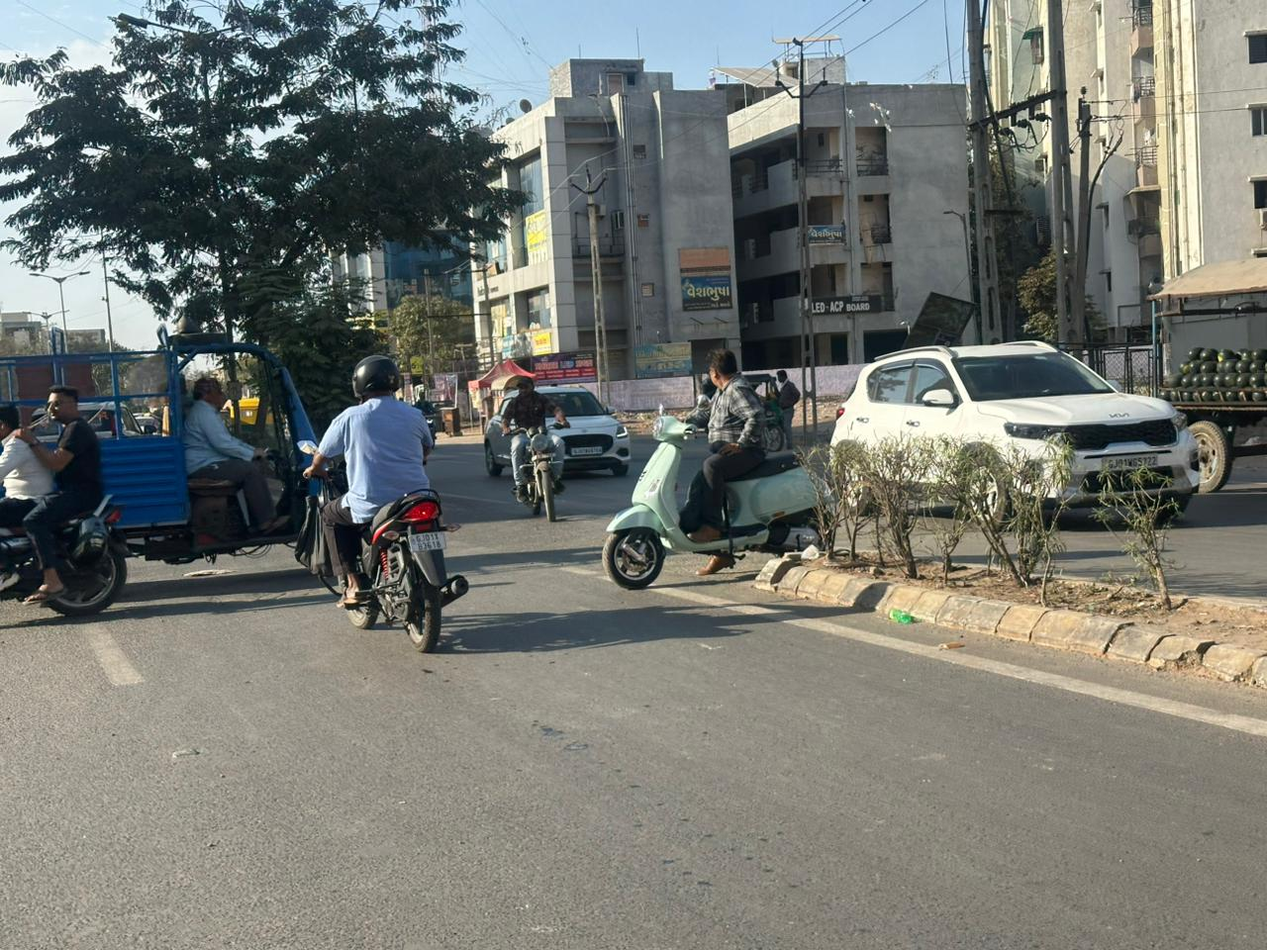BikeWithRider: (286, 336, 491, 663), (585, 334, 844, 586), (496, 359, 565, 531)
Helmet: (337, 341, 411, 407)
NoHelmet: (695, 341, 757, 389)
